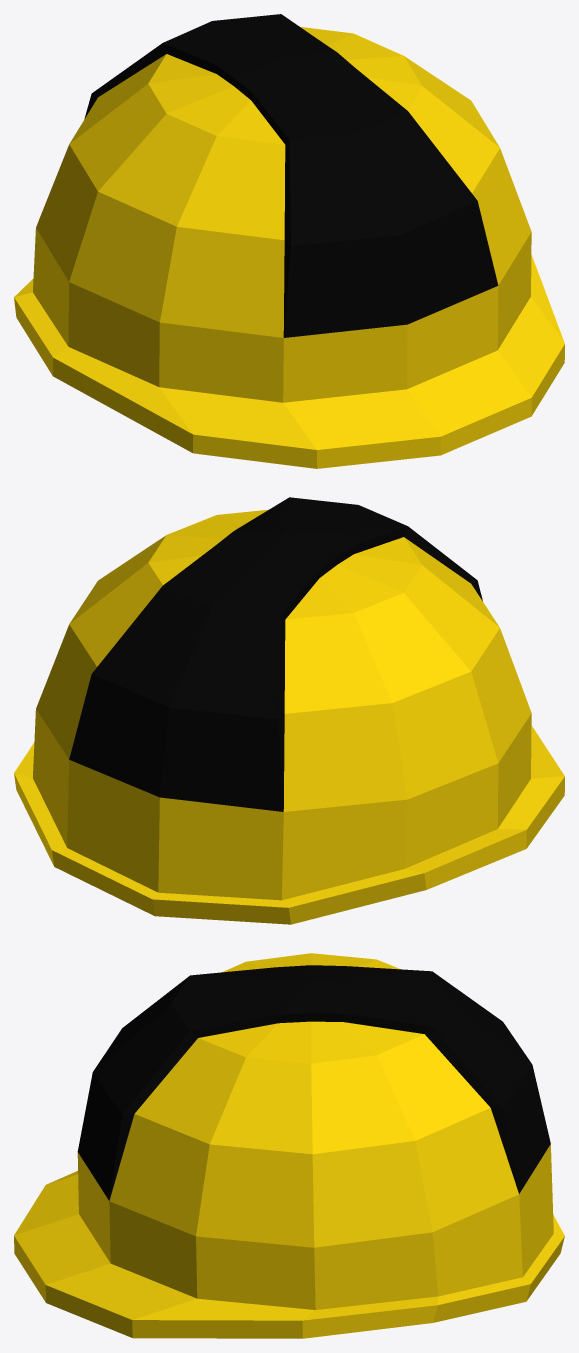
Rendered from SafetyHelmet.fbx.
The picture shows the model from 3 angles, top to bottom: view 1: azimuth 30°, elevation 25°; view 2: azimuth 150°, elevation 25°; view 3: azimuth 270°, elevation 25°; orthographic projection. The views are drawn at different scales.
Parts seen in each view (by area): view 1: Cylinder; view 2: Cylinder; view 3: Cylinder.
Boxes of the visible parts, x1,y1,x2,y2 form: Cylinder: [14, 14, 564, 468]; Cylinder: [14, 497, 564, 924]; Cylinder: [14, 953, 564, 1338].
Bounding box in the file's own units: 22.07 × 12.75 × 23.29.
